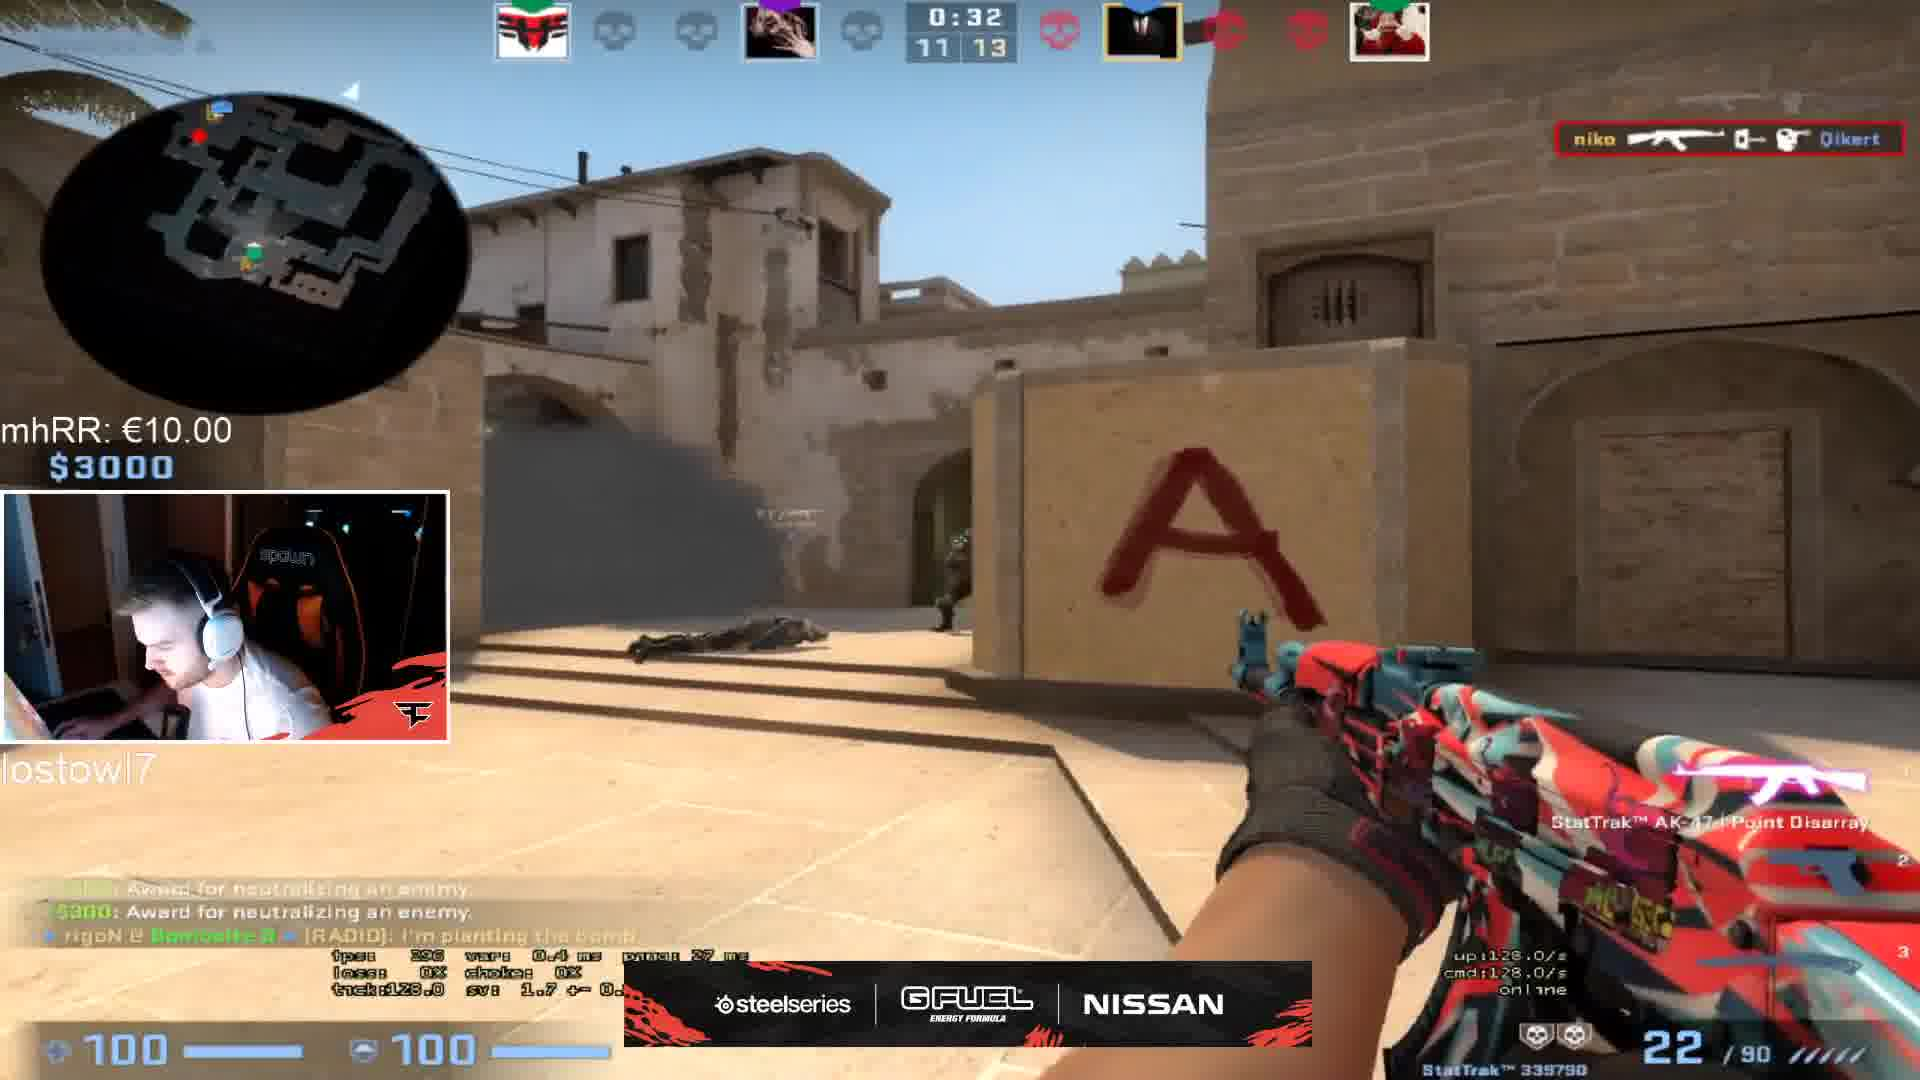enemy: (920, 520, 976, 640)
